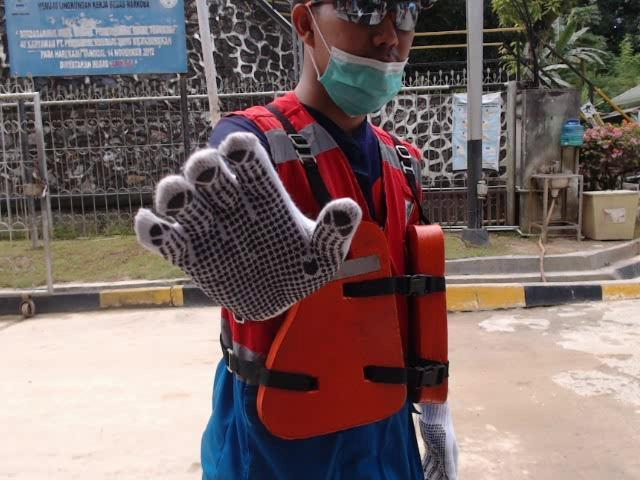vest: (255, 217, 448, 440)
